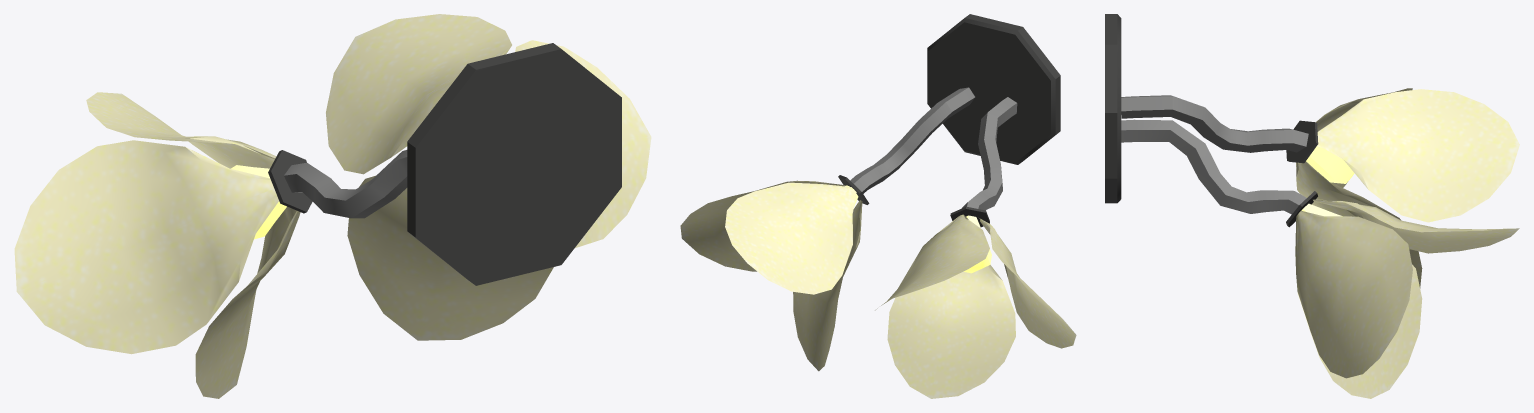
The model's file is WallLight.fbx.
The picture shows the model from 3 angles, left to right: view 1: azimuth 30°, elevation 25°; view 2: azimuth 150°, elevation 25°; view 3: azimuth 270°, elevation 25°; orthographic projection. The views are drawn at different scales.
Visible parts, largest first — view 1: Lampara flor.001; view 2: Lampara flor.001; view 3: Lampara flor.001.
Boxes of the visible parts, bbox=[...] form: Lampara flor.001: bbox=[14, 14, 651, 398]; Lampara flor.001: bbox=[680, 14, 1076, 398]; Lampara flor.001: bbox=[1105, 14, 1519, 398].
Bounding box in the file's own units: 87.6 × 58.75 × 67.47.
